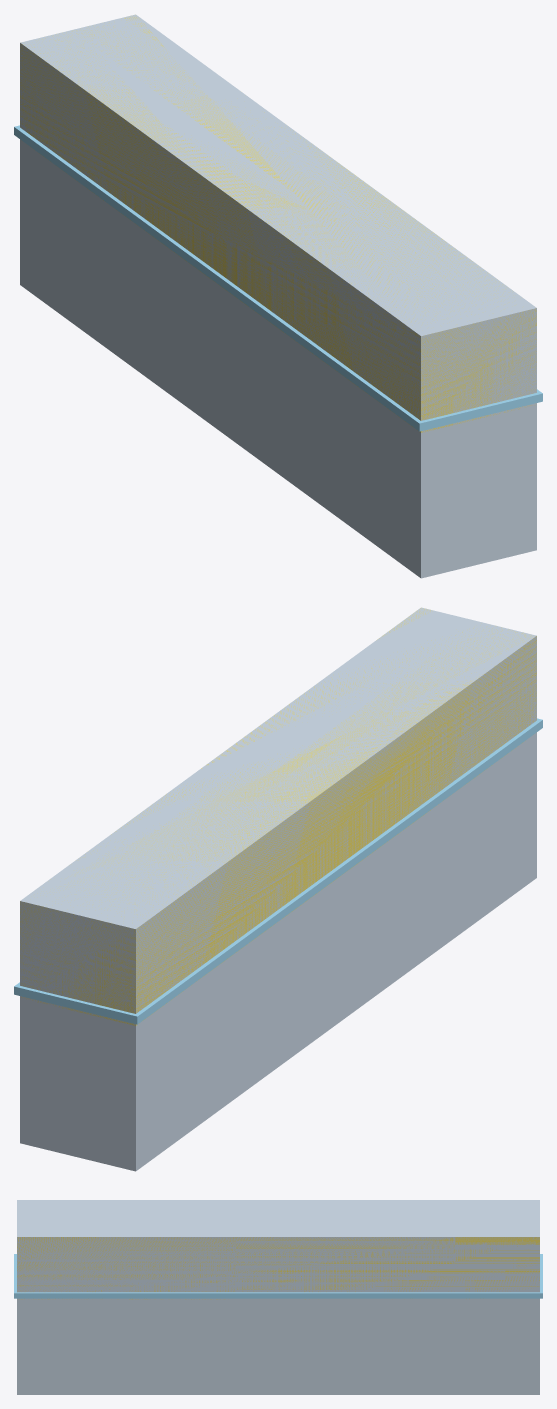
File: rcc_singly_reinforced_beam_is456.glb
3 views of the same model, one above another, from view 1: azimuth 30°, elevation 25°; view 2: azimuth 150°, elevation 25°; view 3: azimuth 270°, elevation 25° (orthographic). The views are drawn at different scales.
Parts seen in each view (by area): view 1: ConcreteBeamPrismStem, ConcreteParabolicCompressiveStressZone, NeutralAxisStressBlockPlane; view 2: ConcreteBeamPrismStem, ConcreteParabolicCompressiveStressZone, NeutralAxisStressBlockPlane; view 3: ConcreteBeamPrismStem, ConcreteParabolicCompressiveStressZone, NeutralAxisStressBlockPlane.
Part boxes in pixels (x1,y1,x2,y2): ConcreteBeamPrismStem: (20,14,536,578); ConcreteParabolicCompressiveStressZone: (20,16,536,432); NeutralAxisStressBlockPlane: (14,125,542,431); ConcreteBeamPrismStem: (20,607,536,1171); ConcreteParabolicCompressiveStressZone: (20,608,536,1025); NeutralAxisStressBlockPlane: (14,718,542,1024); ConcreteBeamPrismStem: (17,1200,539,1394); ConcreteParabolicCompressiveStressZone: (17,1237,539,1299); NeutralAxisStressBlockPlane: (14,1254,542,1298).
Bounding box in the file's own units: 0.32 × 0.6 × 1.82.
